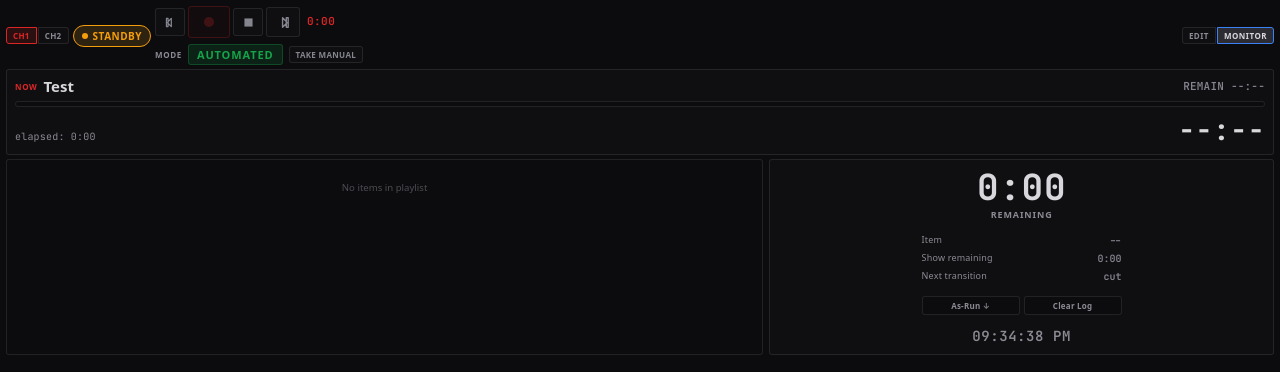
Test: PlayoutPanel › save button shows warning when on-air
# Switch back to edit mode manually
What coordinates should you click on to do the following:
click the button with class "mode-btn-toggle" showing "EDIT"
I would click on:
 (1199, 36)
Its box is [1182,27,1216,44].
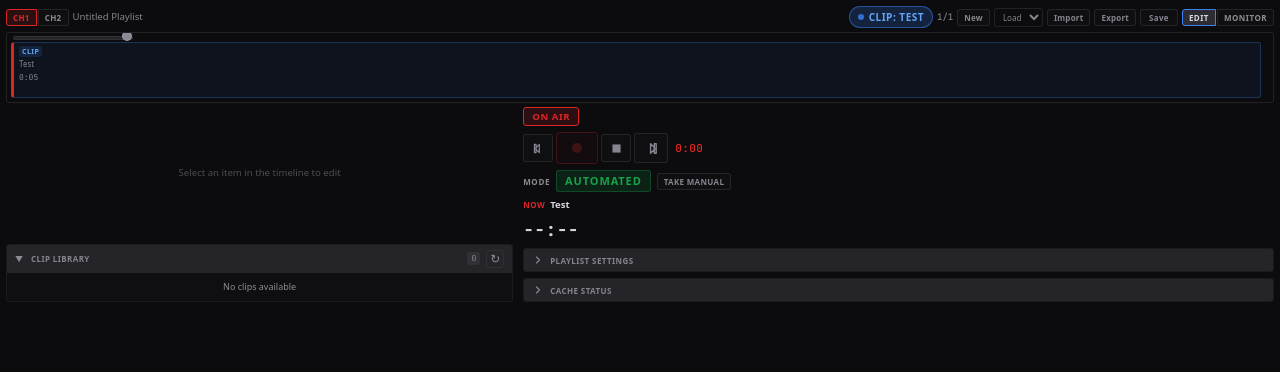
Check: the button with class "save-btn" is shown, box [1140,8,1178,26]
